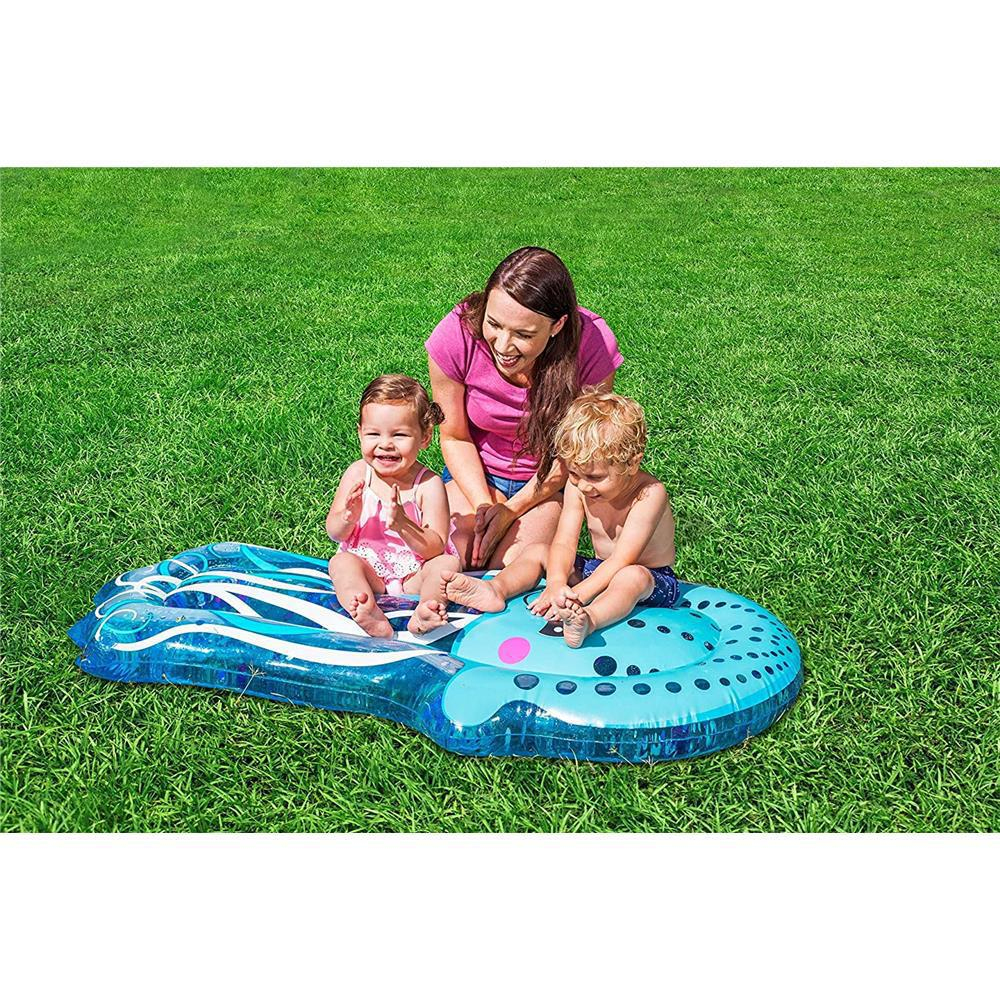child: (537, 402, 696, 643), (323, 375, 453, 631)
